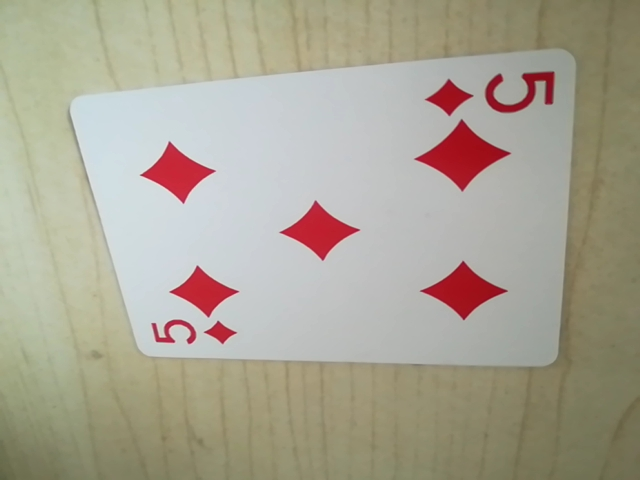fk 5: (426, 63, 555, 123), (145, 312, 241, 356)
